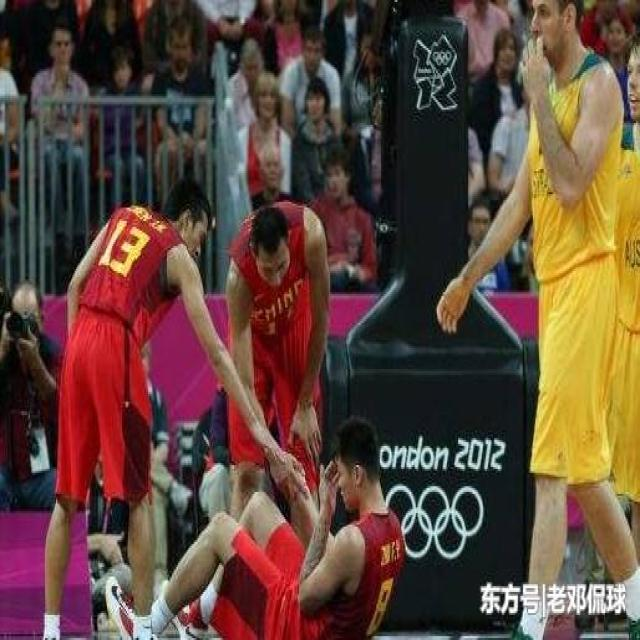10-: (0, 0, 638, 638)
down: (98, 408, 406, 638)
